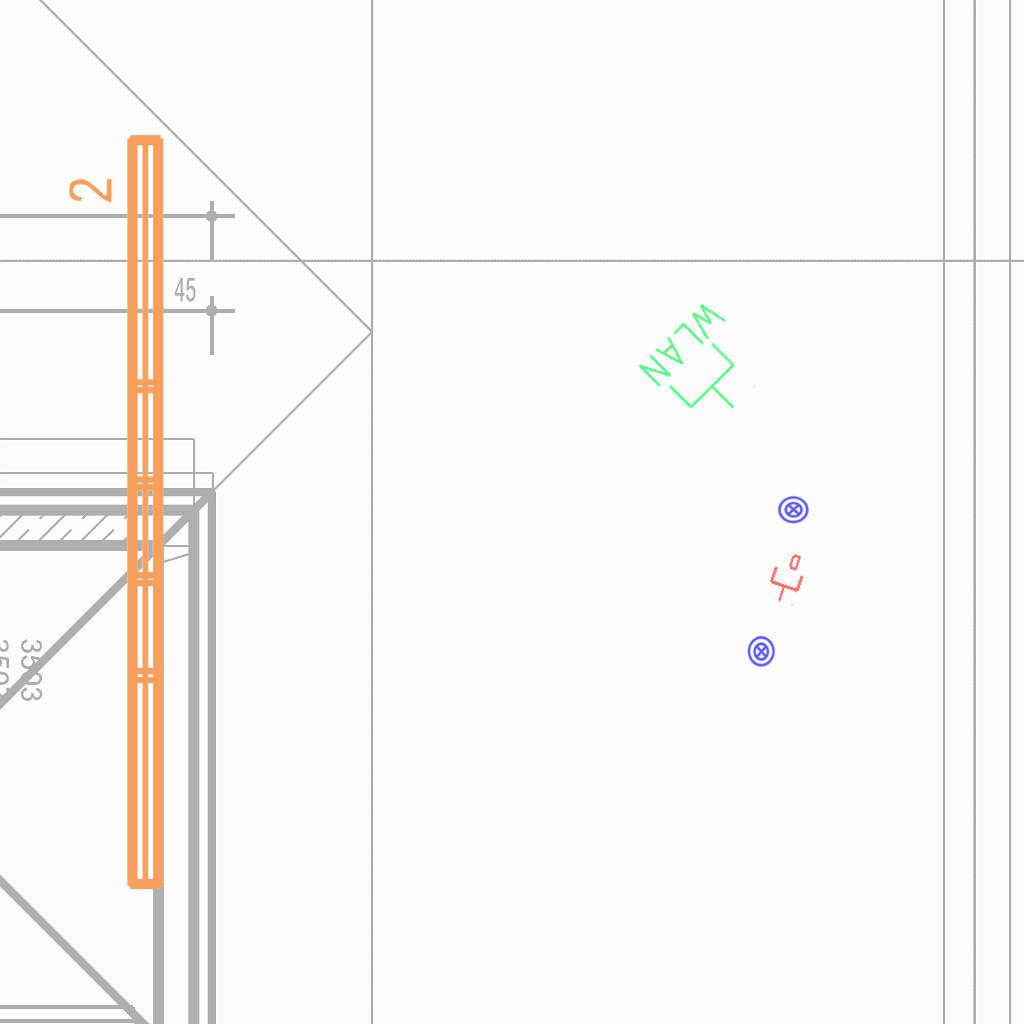Ambulanz_Pendelleuchte_LED: (64, 126, 176, 900)
Datenanschluss_einfach: (762, 548, 812, 608)
Taster_beleuchtet: (777, 493, 810, 526), (745, 635, 778, 668)
WLAN: (632, 292, 780, 441)
